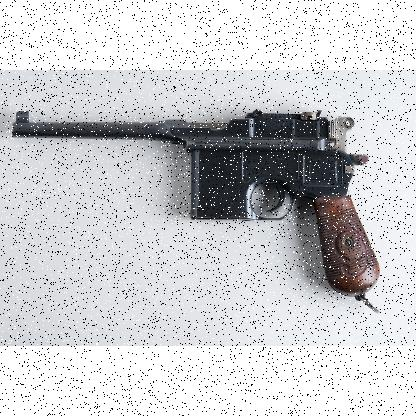gun: (13, 110, 380, 310)
